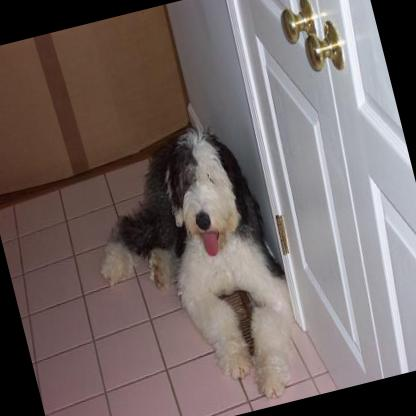Old_English_sheepdog: (67, 108, 315, 416)
